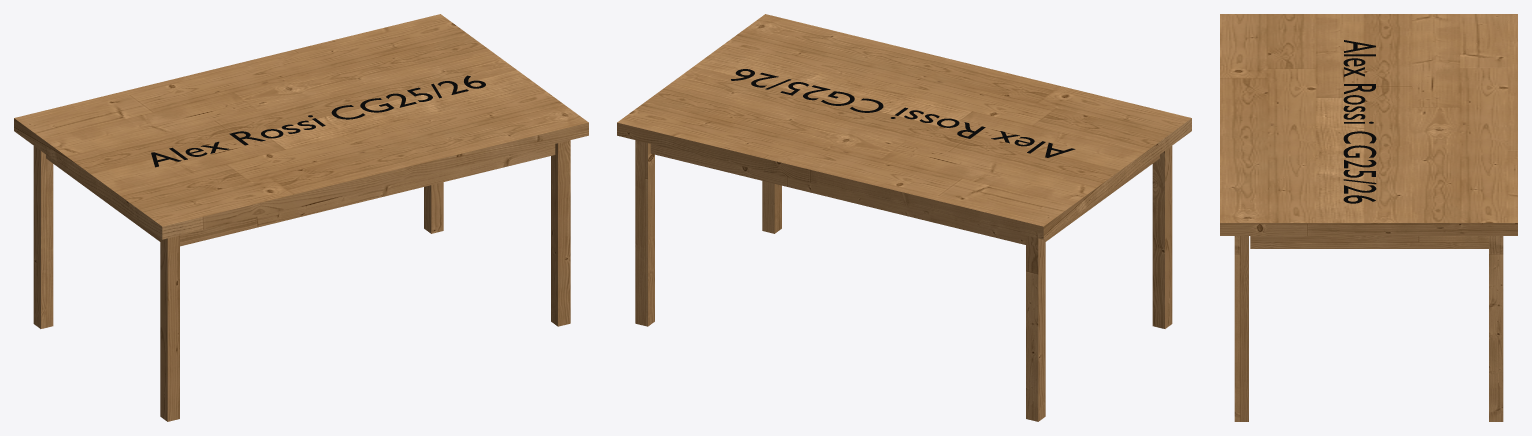
File: table.obj
3 views of the same model, side by side, from view 1: azimuth 30°, elevation 25°; view 2: azimuth 150°, elevation 25°; view 3: azimuth 270°, elevation 25° (orthographic).
Visible parts, largest first — view 1: Testo; view 2: Testo; view 3: Testo.
Part boxes in pixels (bbox=[...]): Testo: bbox=[14, 14, 588, 421]; Testo: bbox=[617, 14, 1191, 421]; Testo: bbox=[1220, 14, 1517, 421].
Size of the model in its own units: 1.71 by 0.7828 by 1.03.
